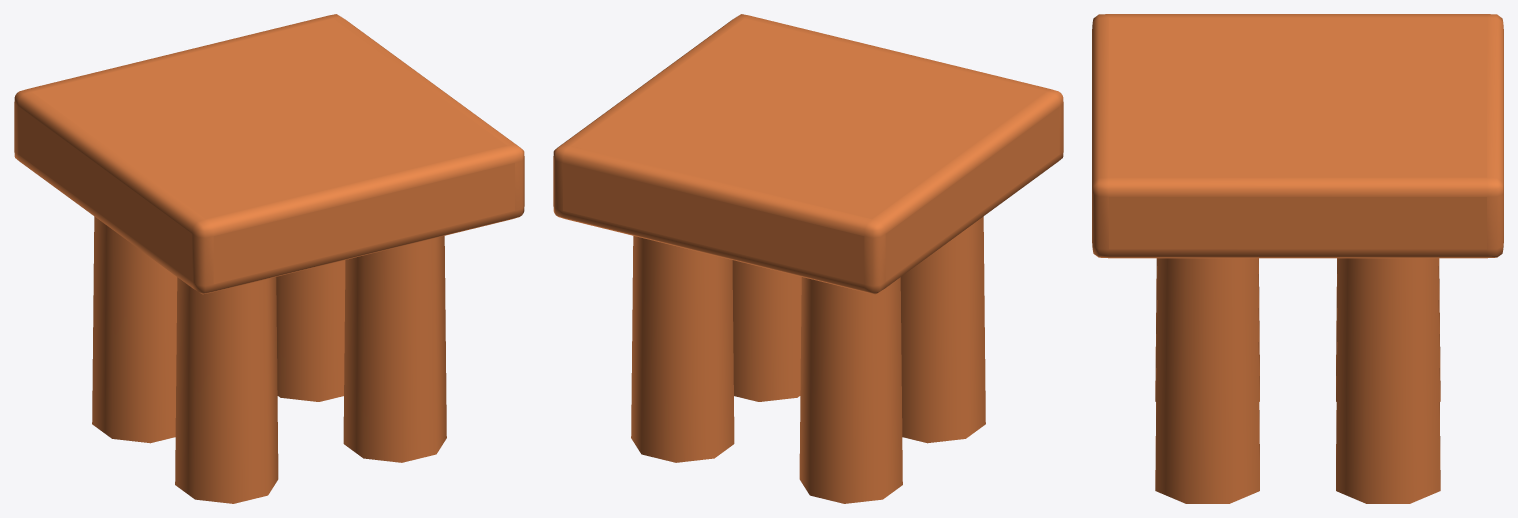
File: MAT_Farmhouse_desk_colour.glb
3 views of the same model, side by side, from view 1: azimuth 30°, elevation 25°; view 2: azimuth 150°, elevation 25°; view 3: azimuth 270°, elevation 25° (orthographic). The views are drawn at different scales.
Parts seen in each view (by area): view 1: MAT_Farmhouse_desk_colour; view 2: MAT_Farmhouse_desk_colour; view 3: MAT_Farmhouse_desk_colour.
Boxes of the visible parts, bbox=[...] form: MAT_Farmhouse_desk_colour: bbox=[14, 14, 524, 503]; MAT_Farmhouse_desk_colour: bbox=[553, 14, 1063, 503]; MAT_Farmhouse_desk_colour: bbox=[1092, 14, 1503, 503].
Bounding box in the file's own units: 0.6395 × 0.5818 × 0.6395.
